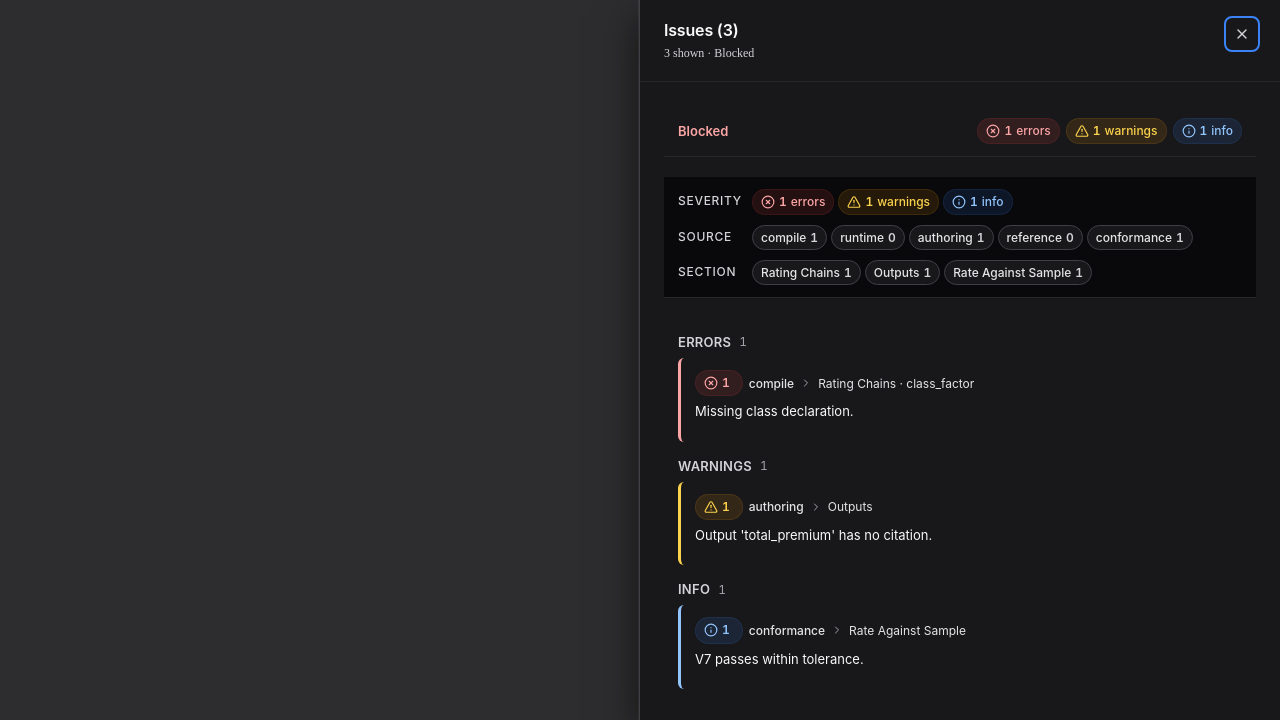
<UnifiedErrorPanel> › filter shows clear-filter affordance when nothing matches
// Click a source that isn't represented in the issues
What coordinates should you click on to do the following:
click the button "reference 0"
I would click on:
 (1040, 238)
Its box is [998,225,1083,250].
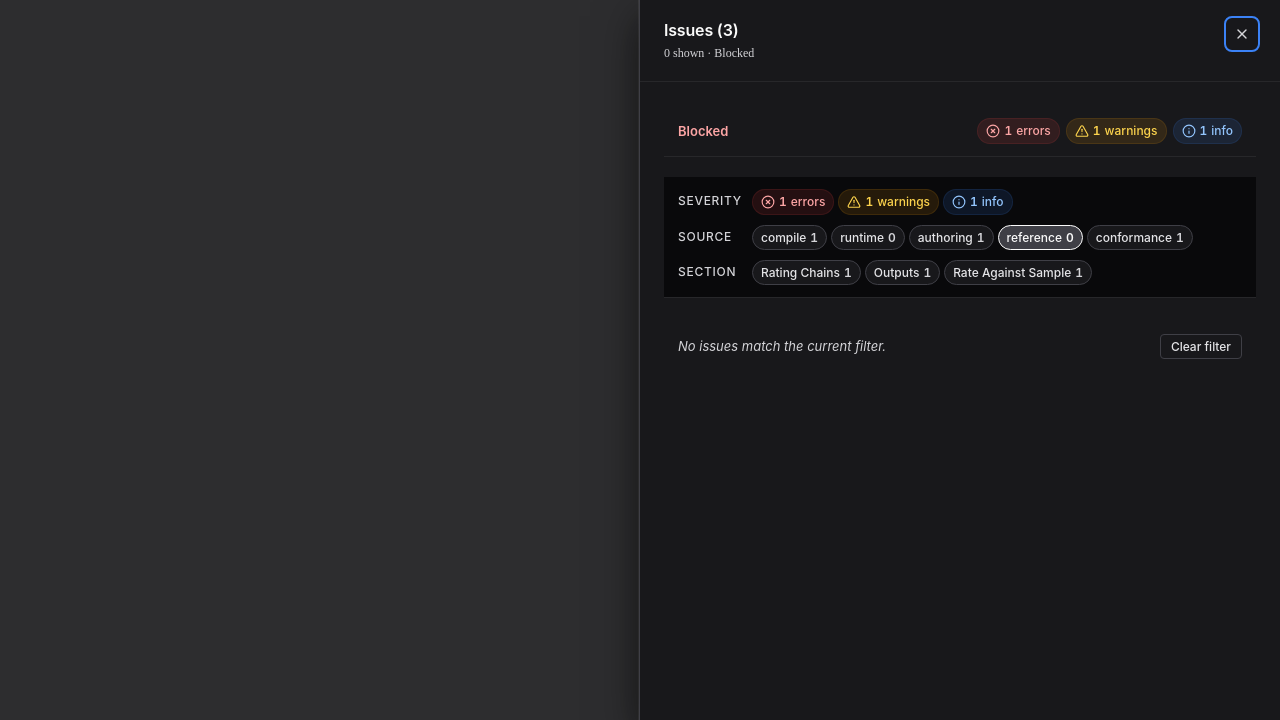
Result: the text "No issues match the current filter." is shown at [678,338,886,354]
What coordinates should you click on to do the following:
click the button "Clear filter"
I would click on:
 (1201, 346)
Its box is [1160,334,1242,359].
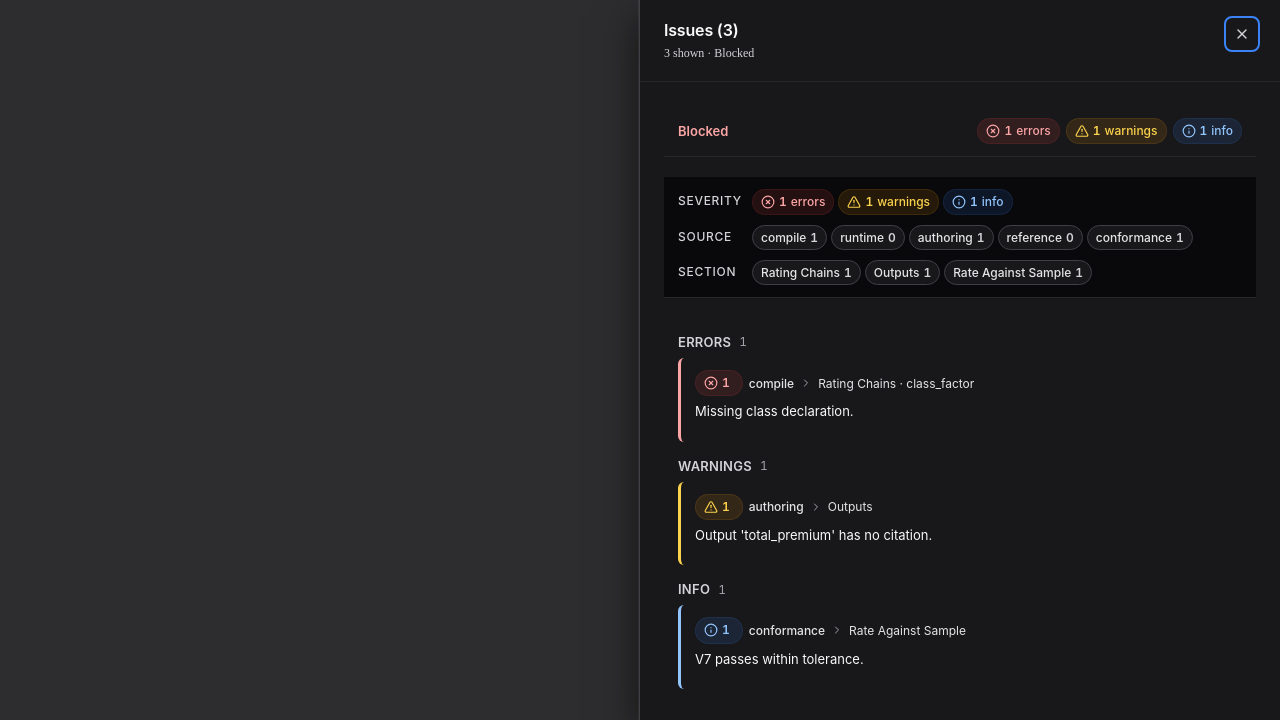
Result: the heading "Errors" is shown at [678,334,731,350]
